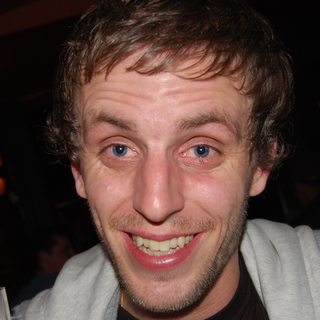eye: (180, 139, 225, 165), (97, 139, 142, 164)
